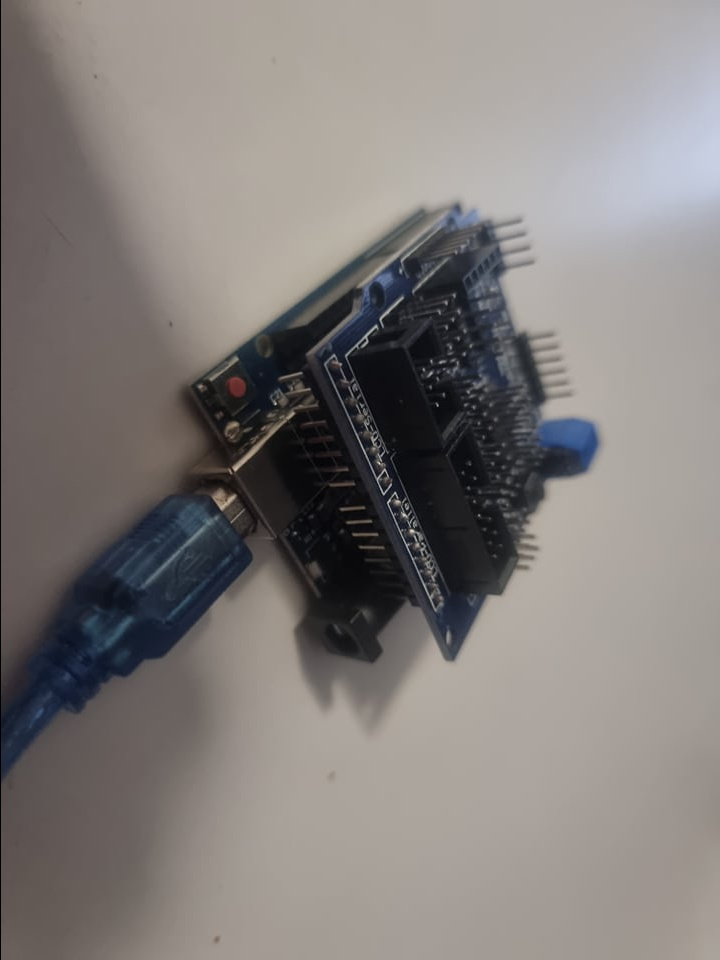5V EXPANSION: (372, 202, 605, 665)
UNO R3: (190, 341, 394, 678)
